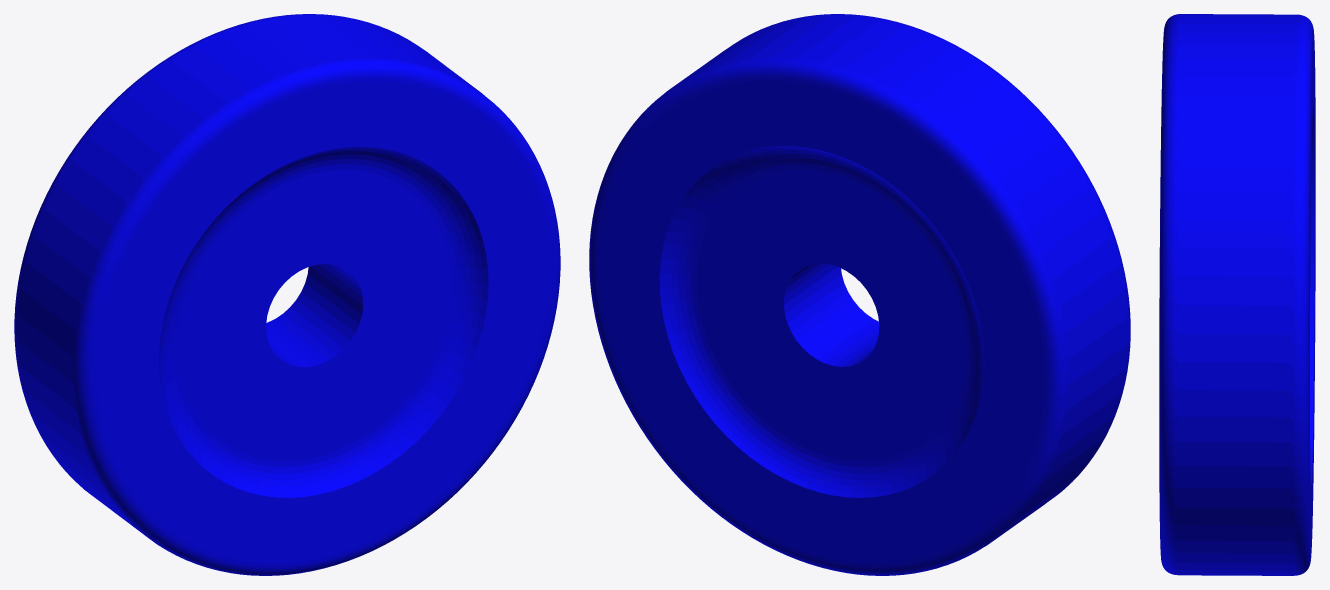
File: front_caster_wheel_new.dae
3 renders of one model, left to right at view 1: azimuth 30°, elevation 25°; view 2: azimuth 150°, elevation 25°; view 3: azimuth 270°, elevation 25°, orthographic.
Visible parts, largest first — view 1: Caffeine Full - Front BackWheelsCaffeine-1; view 2: Caffeine Full - Front BackWheelsCaffeine-1; view 3: Caffeine Full - Front BackWheelsCaffeine-1.
Boxes of the visible parts, x1,y1,x2,y2 form: Caffeine Full - Front BackWheelsCaffeine-1: (14,14,560,575); Caffeine Full - Front BackWheelsCaffeine-1: (589,14,1130,575); Caffeine Full - Front BackWheelsCaffeine-1: (1159,14,1315,575).
Size of the model in its own units: 0.1503 by 0.0418 by 0.1499.
